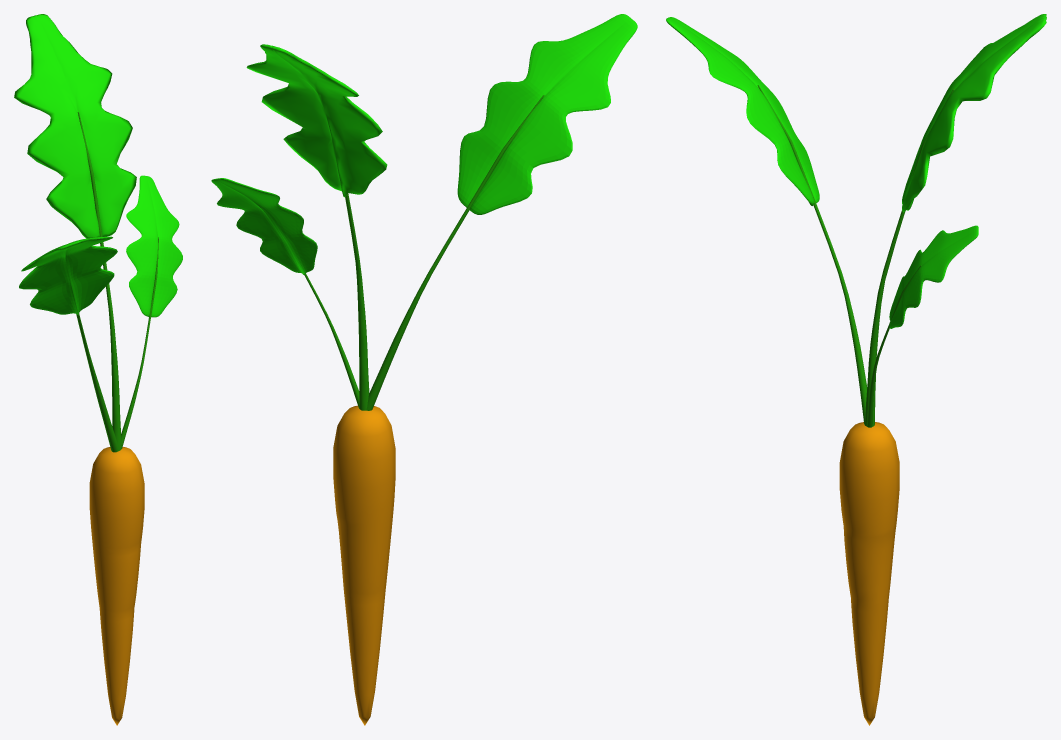
The model's file is CarrotStage3.fbx.
3 views of the same model, side by side, from view 1: azimuth 30°, elevation 25°; view 2: azimuth 150°, elevation 25°; view 3: azimuth 270°, elevation 25° (orthographic). The views are drawn at different scales.
Parts seen in each view (by area): view 1: Stem.002, Carrot.002, Cylinder.008, Cylinder.007; view 2: Cylinder.008, Carrot.002, Stem.002, Cylinder.007; view 3: Carrot.002, Cylinder.008, Stem.002, Cylinder.007.
Boxes of the visible parts, x1,y1,x2,y2 form: Stem.002: (14, 14, 136, 450); Carrot.002: (89, 447, 144, 725); Cylinder.008: (19, 236, 118, 452); Cylinder.007: (121, 175, 182, 448); Cylinder.008: (366, 14, 637, 410); Carrot.002: (333, 405, 395, 725); Stem.002: (246, 44, 387, 410); Cylinder.007: (211, 178, 359, 408); Carrot.002: (839, 422, 899, 725); Cylinder.008: (666, 17, 867, 424); Stem.002: (864, 14, 1046, 426); Cylinder.007: (867, 225, 978, 427).
Size of the model in its own units: 325 by 810 by 394.
